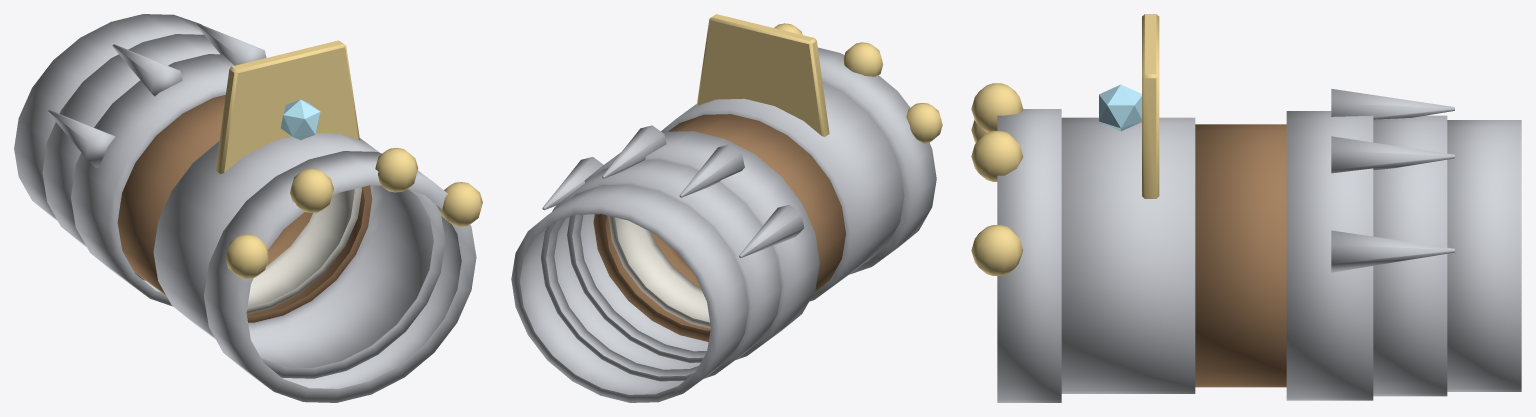
File: w_faust_dorn.glb
3 views of the same model, side by side, from view 1: azimuth 30°, elevation 25°; view 2: azimuth 150°, elevation 25°; view 3: azimuth 270°, elevation 25° (orthographic). The views are drawn at different scales.
Visible parts, largest first — view 1: G_w_faust_dorn; view 2: G_w_faust_dorn; view 3: G_w_faust_dorn.
Part boxes in pixels (bbox=[...]): G_w_faust_dorn: bbox=[14, 14, 482, 402]; G_w_faust_dorn: bbox=[511, 14, 942, 402]; G_w_faust_dorn: bbox=[971, 14, 1521, 402].
Size of the model in its own units: 0.1352 by 0.152 by 0.2225.
